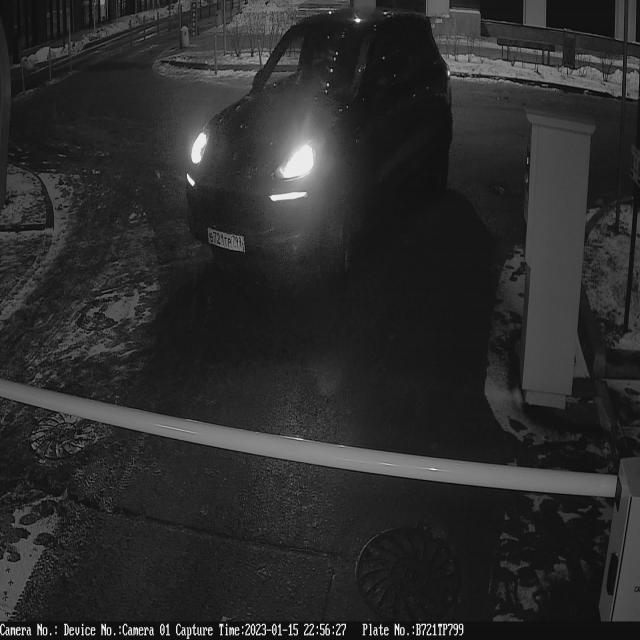car-plate-numbers: (205, 224, 249, 259)
